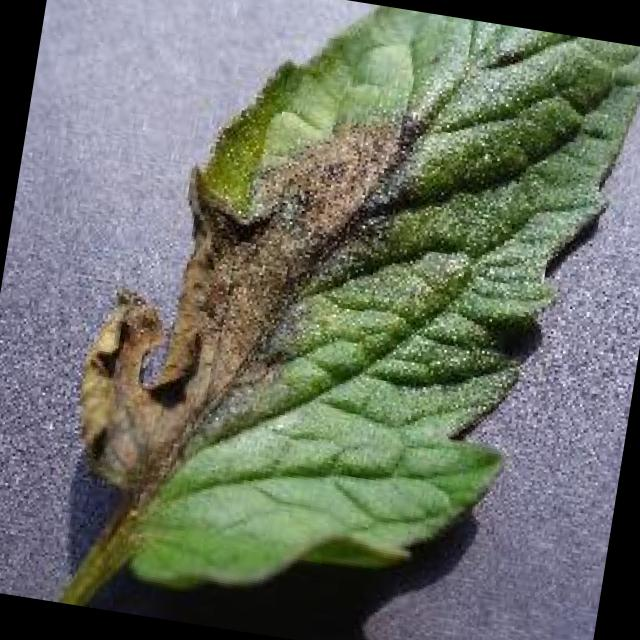Tomato_Late_Blight: (70, 82, 418, 508)
